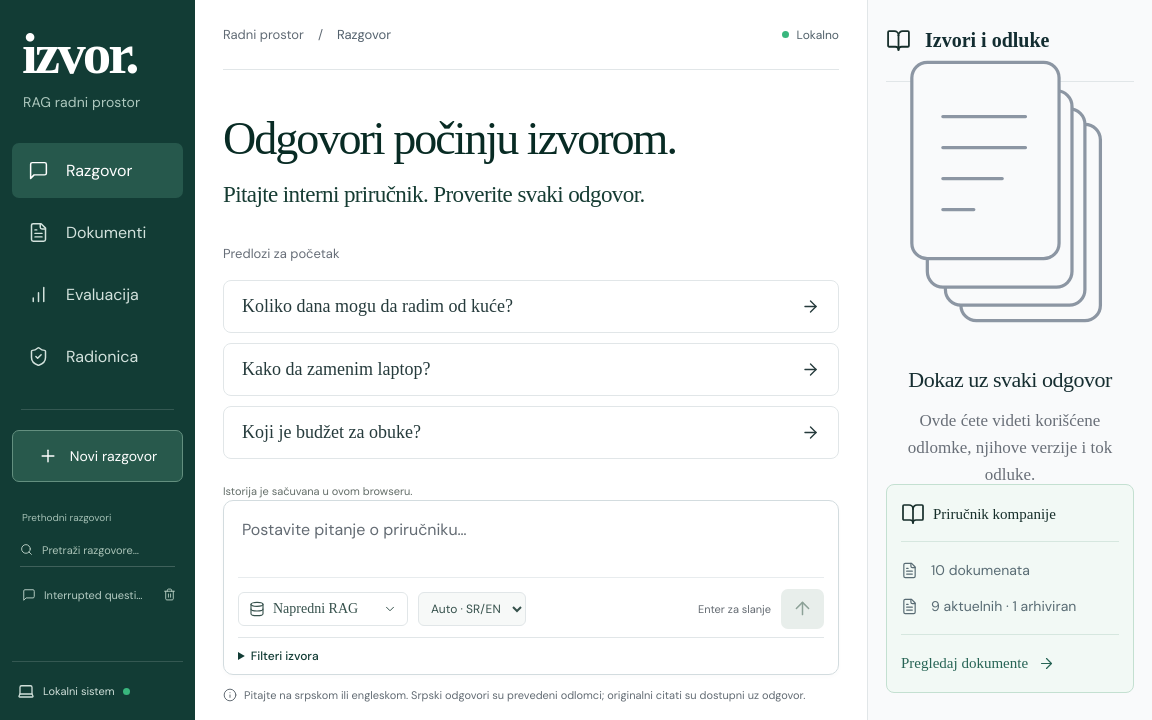
real UI contracts › marks an interrupted saved request for retry instead of spinning forever
Select "English" in the dropdown named "Jezik pitanja". click: [472, 608]
box: [418,592,526,626]
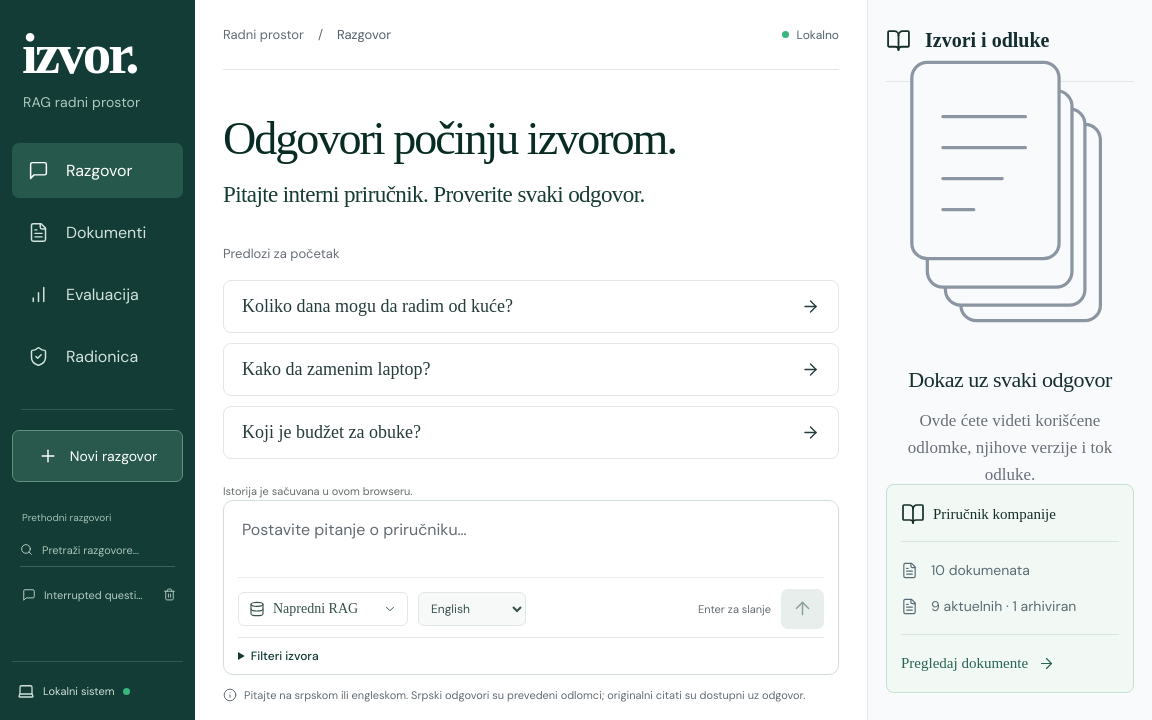
Click the button "Interrupted question". click: [82, 595]
box: [12,577,153,613]
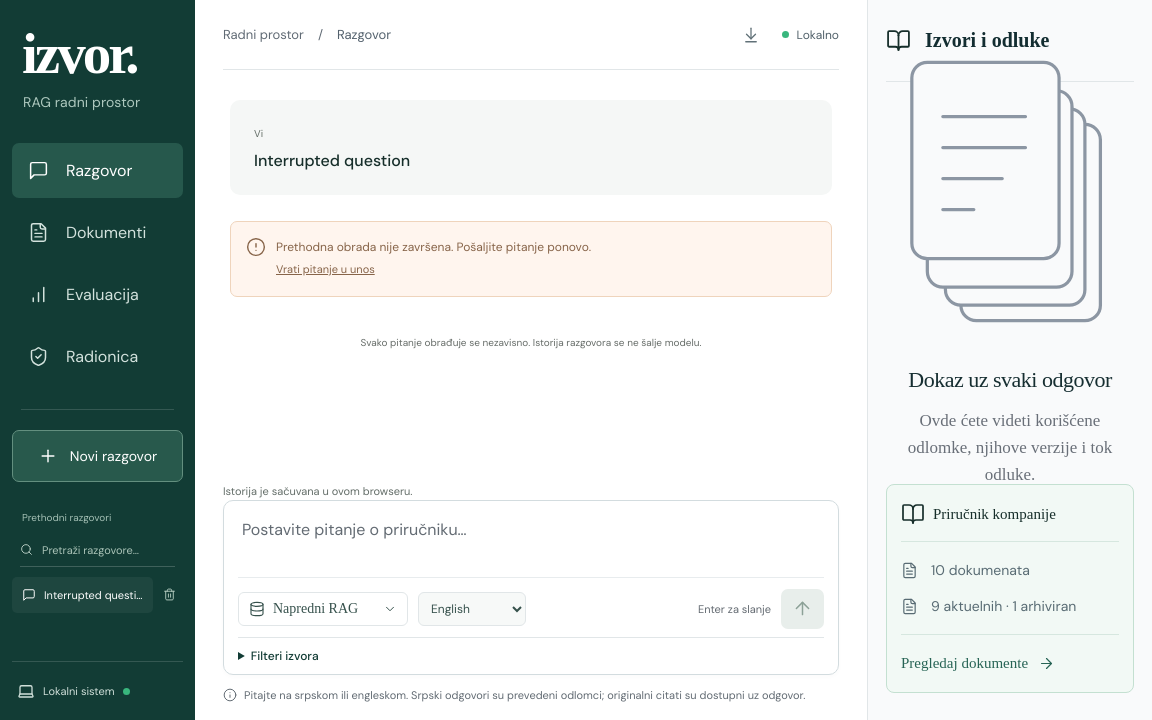
Check: the message "Prethodna obrada nije završena. Pošaljite pitanje ponovo. Vrati pitanje u unos" is shown, box [230,221,832,297]
